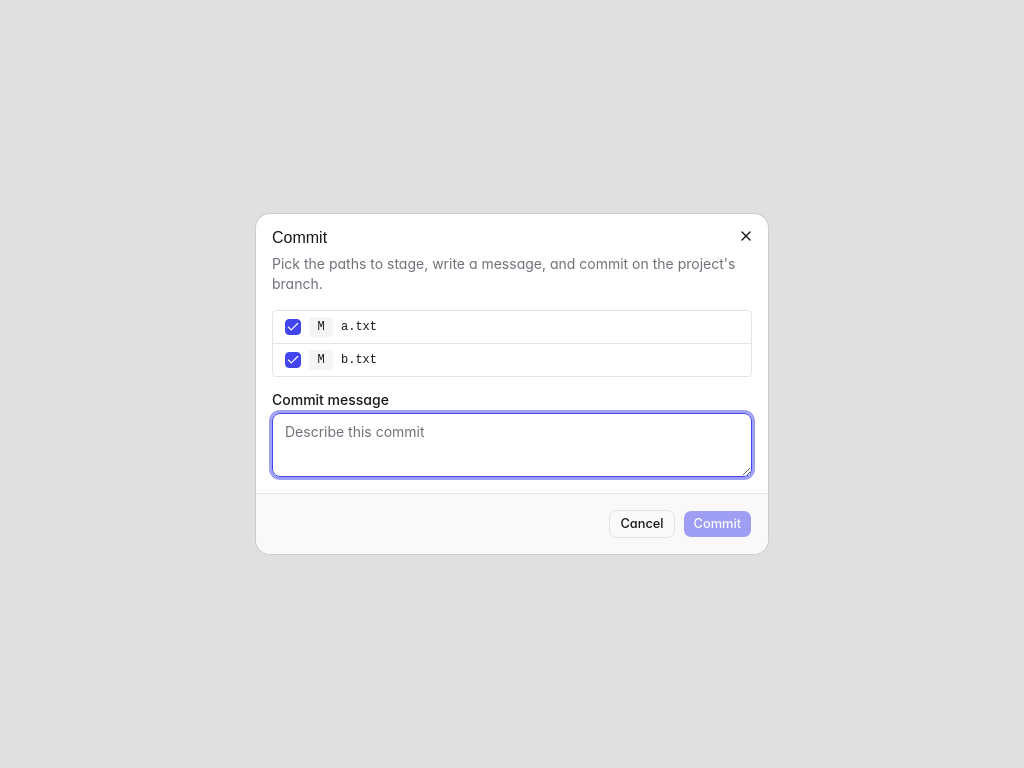
Test: GitCommitDialog — form › disables Commit when message is non-empty but every path is unchecked
The image size is (1024, 768).
Type "feat: x" into the text box with test id "git-commit-message" at (512, 445), box [272,413,752,477]
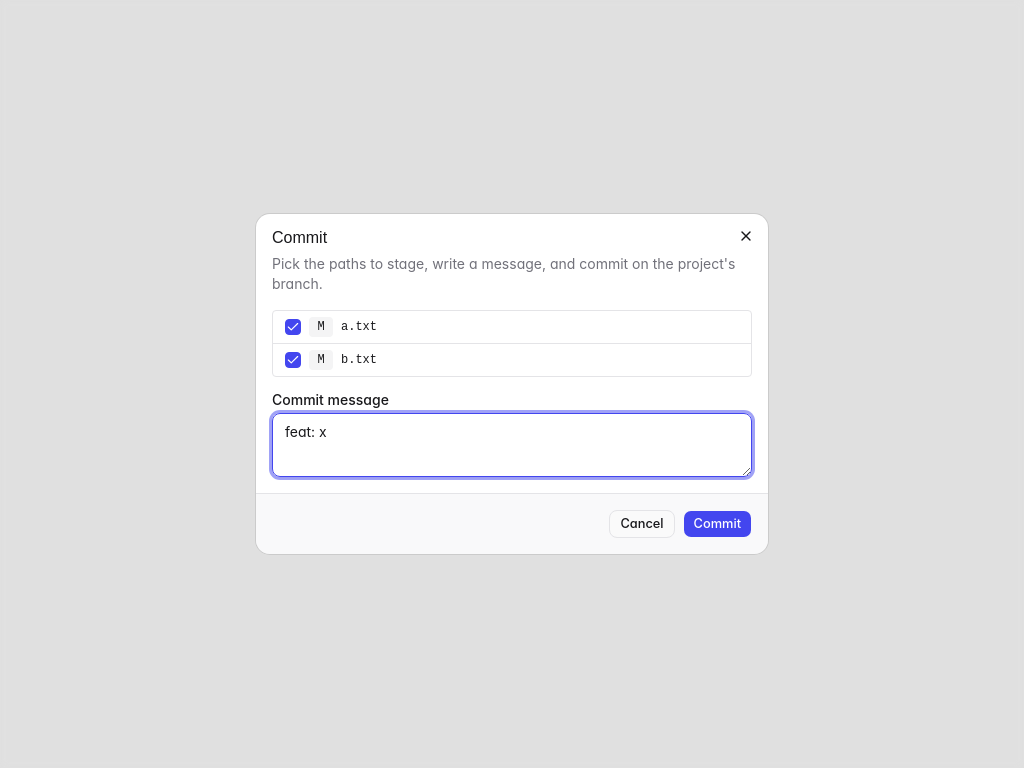
Note: Uncheck both pre-selected rows.
Click the checkbox in the row of "a.txt" at (293, 327), box [285,319,301,335]
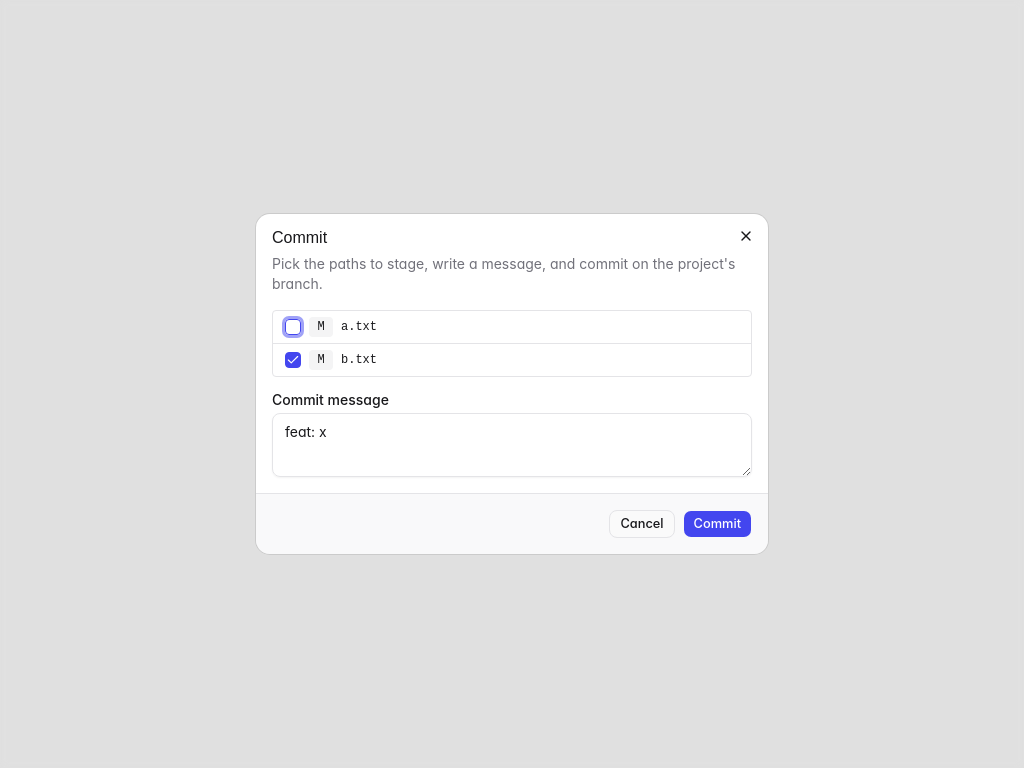
Click the checkbox in the row of "b.txt" at (293, 360), box [285,352,301,368]
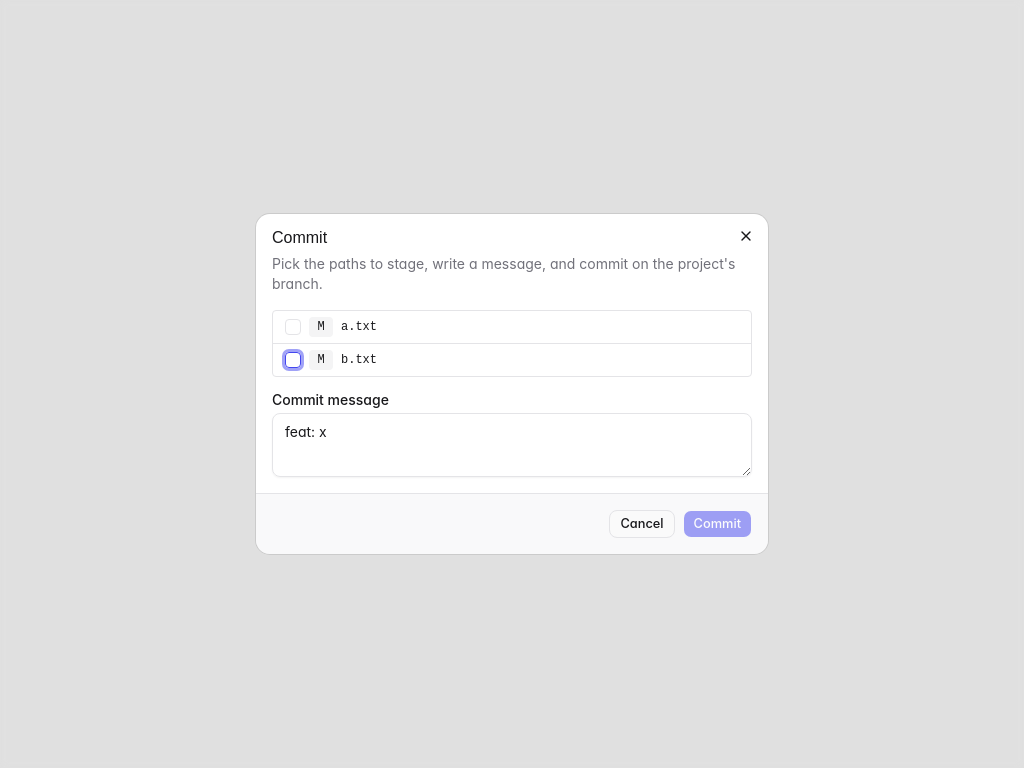
Expected: the button with test id "git-commit-submit" is disabled, [683,510,752,538]
